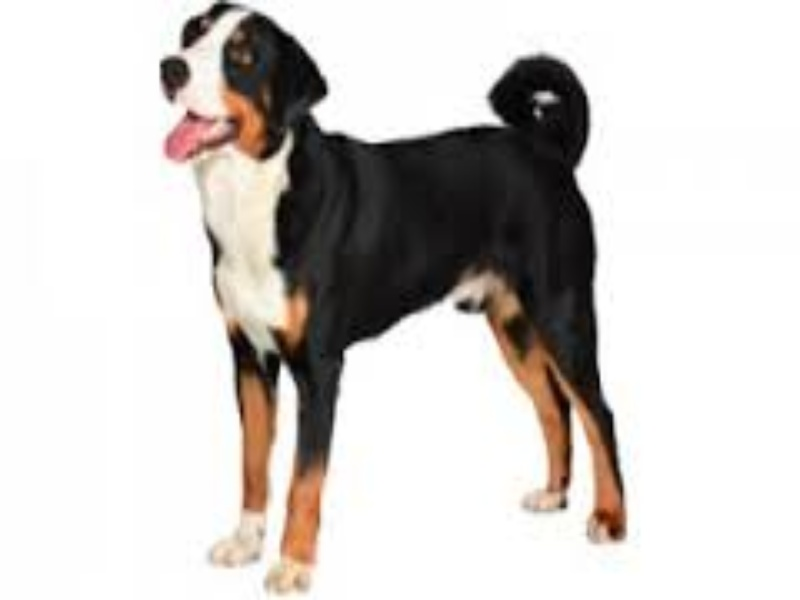dog: (136, 2, 654, 595)
